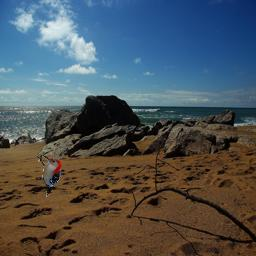Woodpecker: (37, 155, 61, 197)
